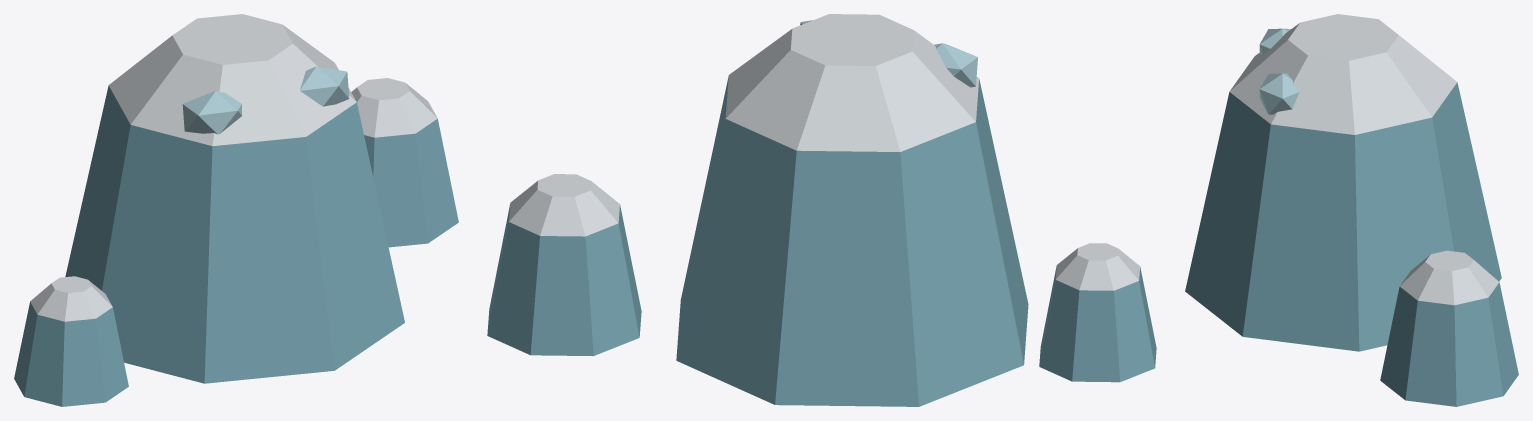
File: Frosty_IcebergCluster_Standard.glb
3 renders of one model, left to right at view 1: azimuth 30°, elevation 25°; view 2: azimuth 150°, elevation 25°; view 3: azimuth 270°, elevation 25°, orthographic. The views are drawn at different scales.
Visible parts, largest first — view 1: Frosty_IcebergCluster_Standard; view 2: Frosty_IcebergCluster_Standard; view 3: Frosty_IcebergCluster_Standard.
Part boxes in pixels (x1,y1,x2,y2): Frosty_IcebergCluster_Standard: (14,14,458,406); Frosty_IcebergCluster_Standard: (487,14,1156,406); Frosty_IcebergCluster_Standard: (1185,14,1518,406).
Bounding box in the file's own units: 3.61 × 1.8 × 2.2.
